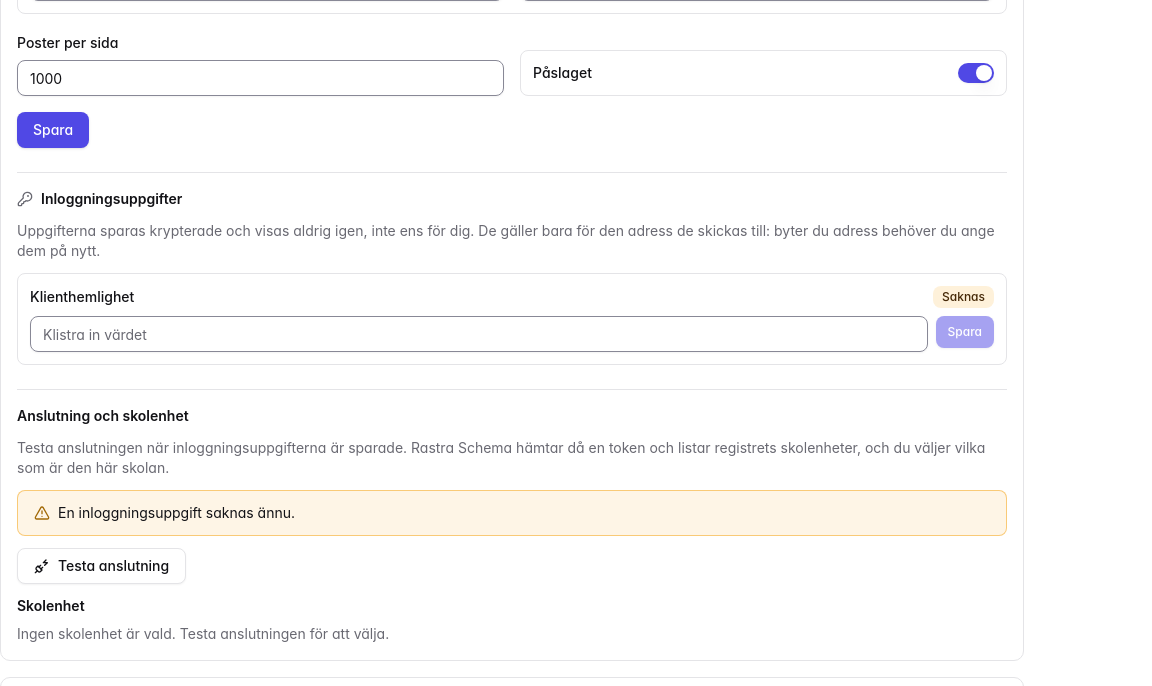
Test: /admin/integrations — the register › keeps a credential write-only: the field empties once sent, and only when it was set comes back
(page scrolled)
Expected: the text "Saknas" is shown, [933, 286, 994, 308]
Type "hemligt-123" into the password field labelled "Klienthemlighet" at (479, 334), box [30, 316, 928, 352]
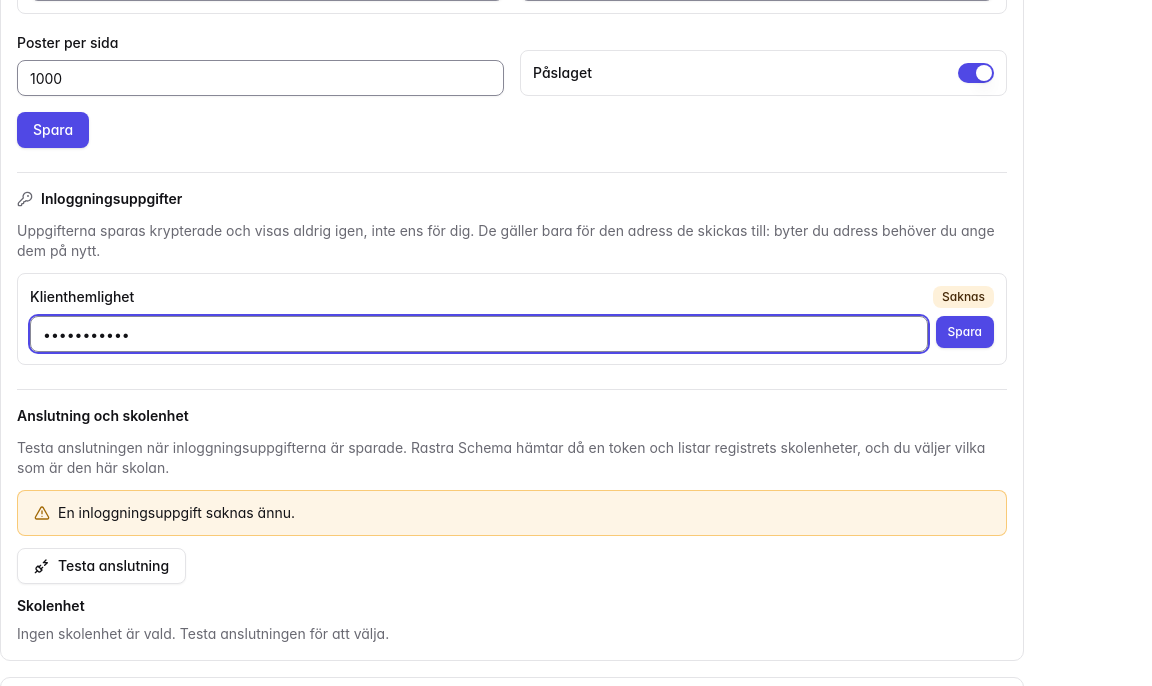
Click the 2nd button "Spara" at (965, 332), box [936, 316, 994, 348]
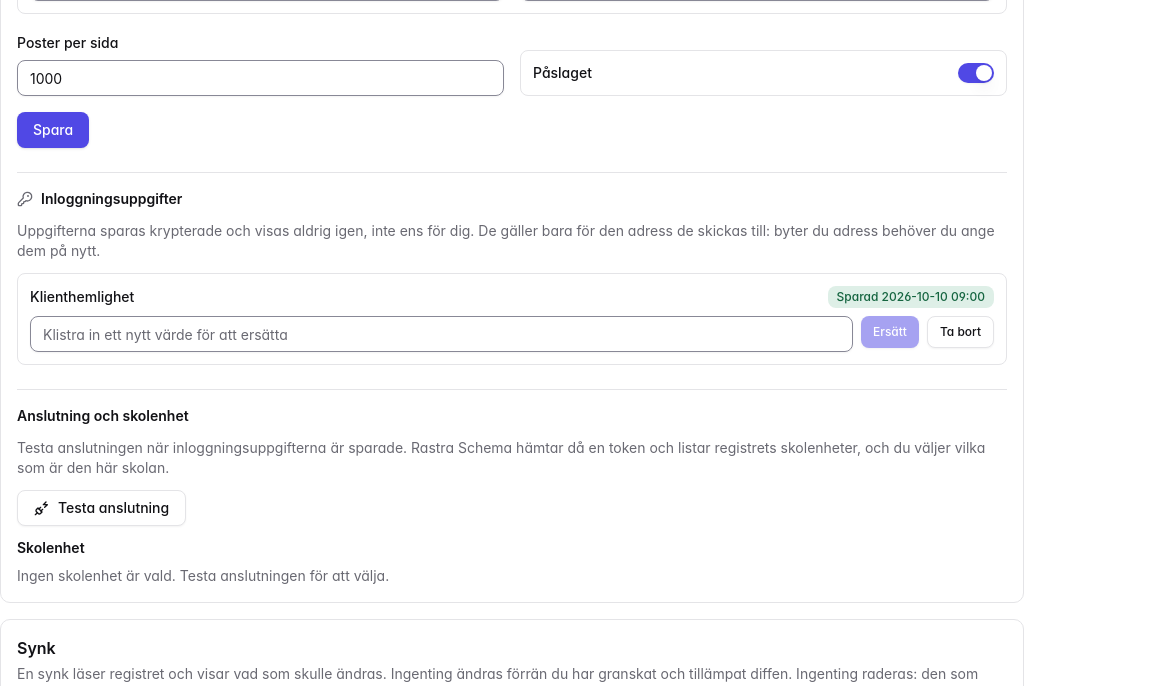
Now the password field labelled "Klienthemlighet" is empty, box [30, 316, 853, 352]
Now the text "Sparad 2026-10-10 09:00" is shown, box [828, 286, 994, 308]
Now the button "Ersätt" is disabled, box [861, 316, 919, 348]
